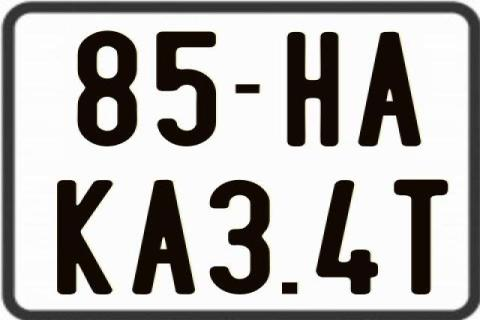0: (77, 28, 143, 149), (154, 29, 216, 149), (316, 178, 378, 298), (208, 180, 270, 298)
A: (129, 178, 198, 294), (356, 30, 420, 150)
H: (286, 31, 339, 146)
K: (57, 178, 113, 294)
T: (391, 180, 446, 298)
